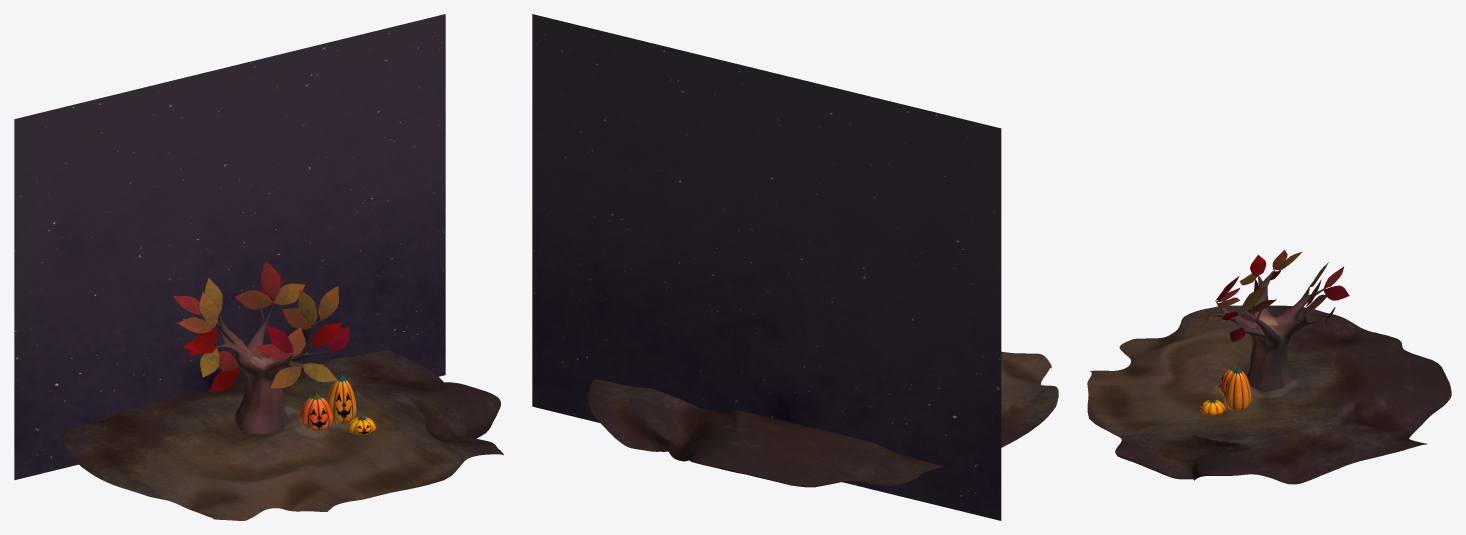
Rendered from Owl Backdrop V2.fbx.
3 views of the same model, side by side, from view 1: azimuth 30°, elevation 25°; view 2: azimuth 150°, elevation 25°; view 3: azimuth 270°, elevation 25° (orthographic). The views are drawn at different scales.
Parts seen in each view (by area): view 1: Sky, Ground, Trunk, Pumpkin (×2); view 2: Sky, Ground; view 3: Ground, Trunk, Pumpkin.
Boxes of the visible parts, <box> form: Sky: <box>14,14,445,480</box>; Ground: <box>62,350,503,520</box>; Trunk: <box>215,300,328,433</box>; Pumpkin (×2): <box>300,380,356,430</box>; Sky: <box>532,14,1001,520</box>; Ground: <box>588,351,1058,487</box>; Ground: <box>1087,305,1451,484</box>; Trunk: <box>1210,270,1325,391</box>; Pumpkin: <box>1224,372,1251,410</box>.
Size of the model in its own units: 25 by 20 by 20.61.
Materials: 3 (3 with a texture image).
